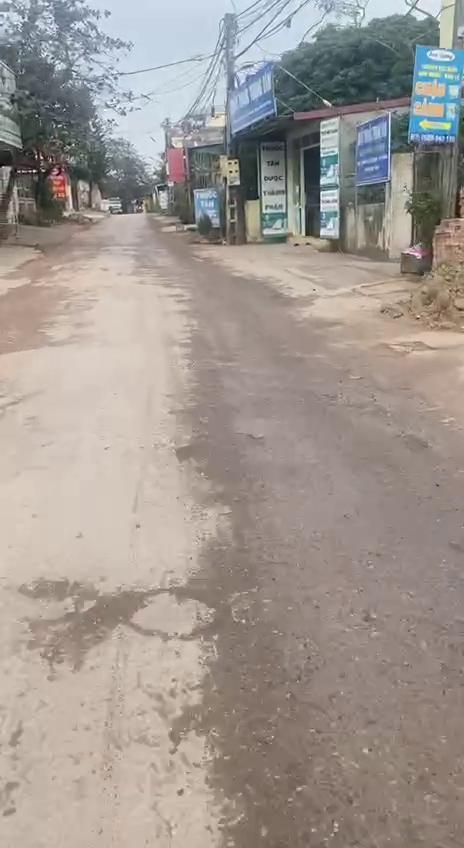pothole: (11, 572, 145, 670)
